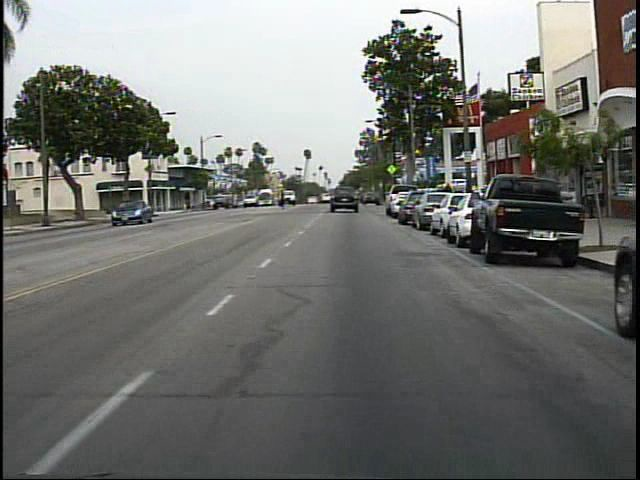person: (438, 178, 458, 216), (276, 185, 290, 214)
